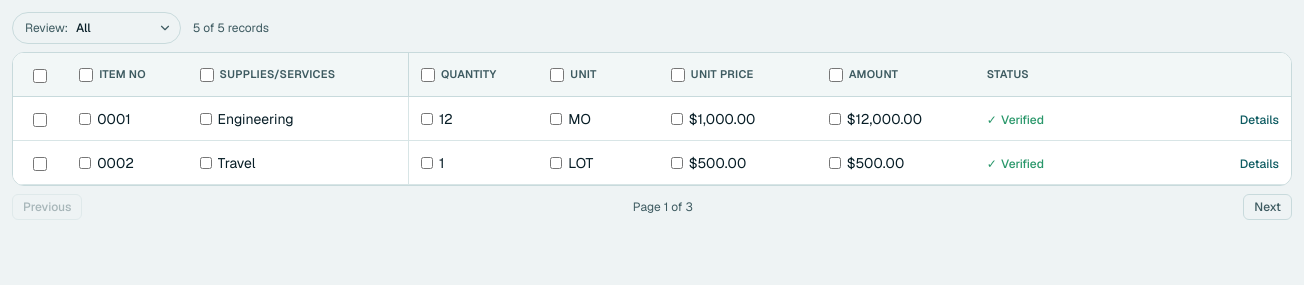
Scenario: StagingDatasetTable selection (contract CLINs) › every cell has its own small checkbox, which toggles just that cell
Step 1. Click the checkbox named "Select SUPPLIES/SERVICES of 0001" → [206, 118], box [200, 112, 212, 124]
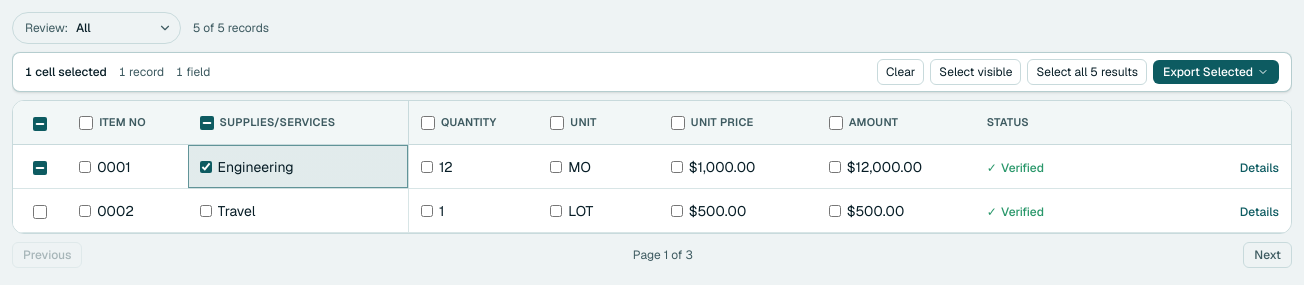
expect the checkbox named "Select SUPPLIES/SERVICES of 0001" is checked: met
expect the element with test id "selection-toolbar" shows "1 cell selected": met, box [12, 52, 1292, 92]
Step 2. Click the checkbox named "Select SUPPLIES/SERVICES of 0001" → [206, 166], box [200, 160, 212, 172]
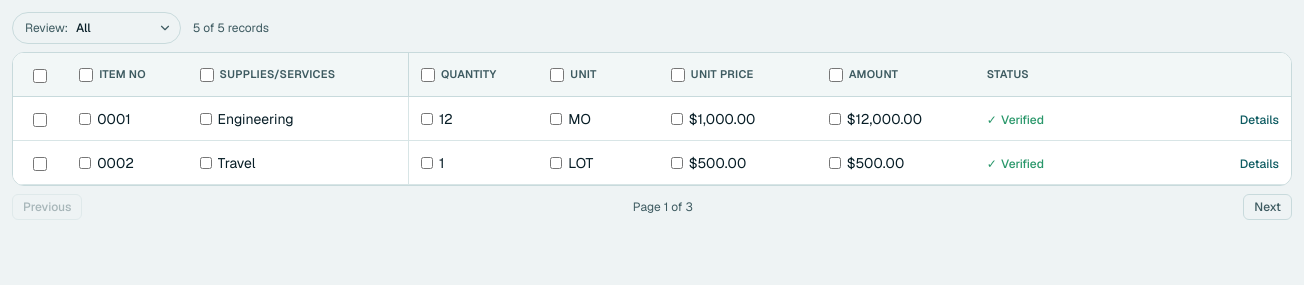
expect the element with test id "selection-toolbar" is gone: met
